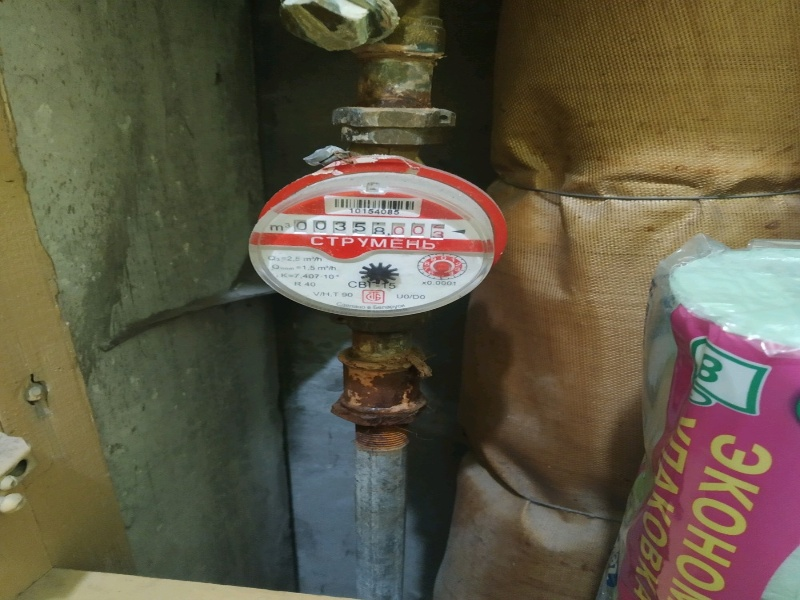meter: (291, 211, 451, 241)
